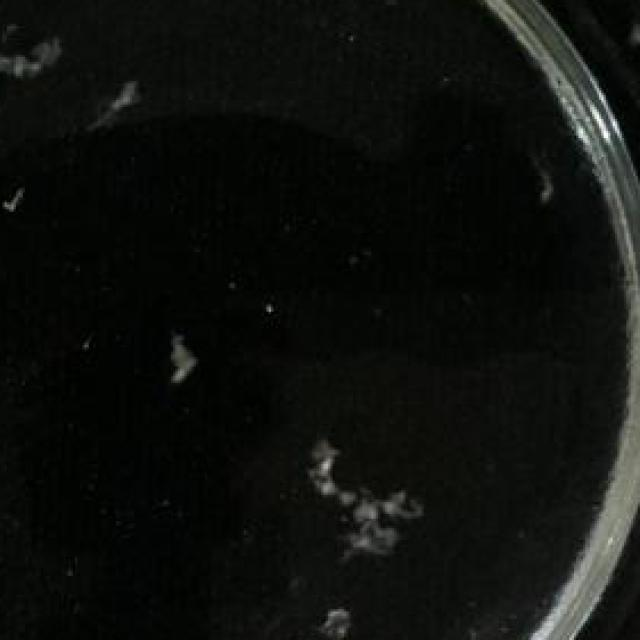Microplastic: (310, 435, 437, 564), (0, 0, 79, 90), (276, 590, 355, 640), (100, 67, 155, 126), (168, 321, 202, 390), (612, 0, 640, 71), (0, 167, 34, 221)
